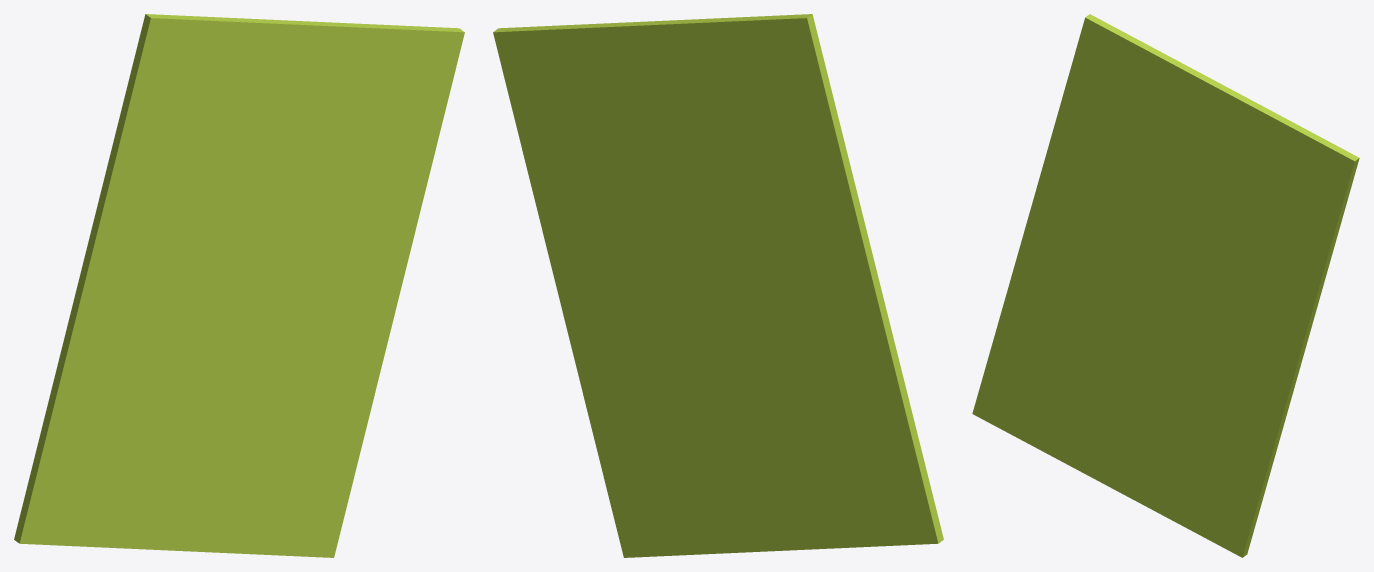
3 views of the same model, side by side, from view 1: azimuth 30°, elevation 25°; view 2: azimuth 150°, elevation 25°; view 3: azimuth 330°, elevation 25° (orthographic). The views are drawn at different scales.
Visible parts, largest first — view 1: osm-way27917482-F3; view 2: osm-way27917482-F3; view 3: osm-way27917482-F3.
Boxes of the visible parts, x1,y1,x2,y2 form: osm-way27917482-F3: (14, 14, 464, 557); osm-way27917482-F3: (493, 14, 943, 557); osm-way27917482-F3: (972, 14, 1359, 557).
Size of the model in its own units: 6.9 by 8.65 by 0.15.
